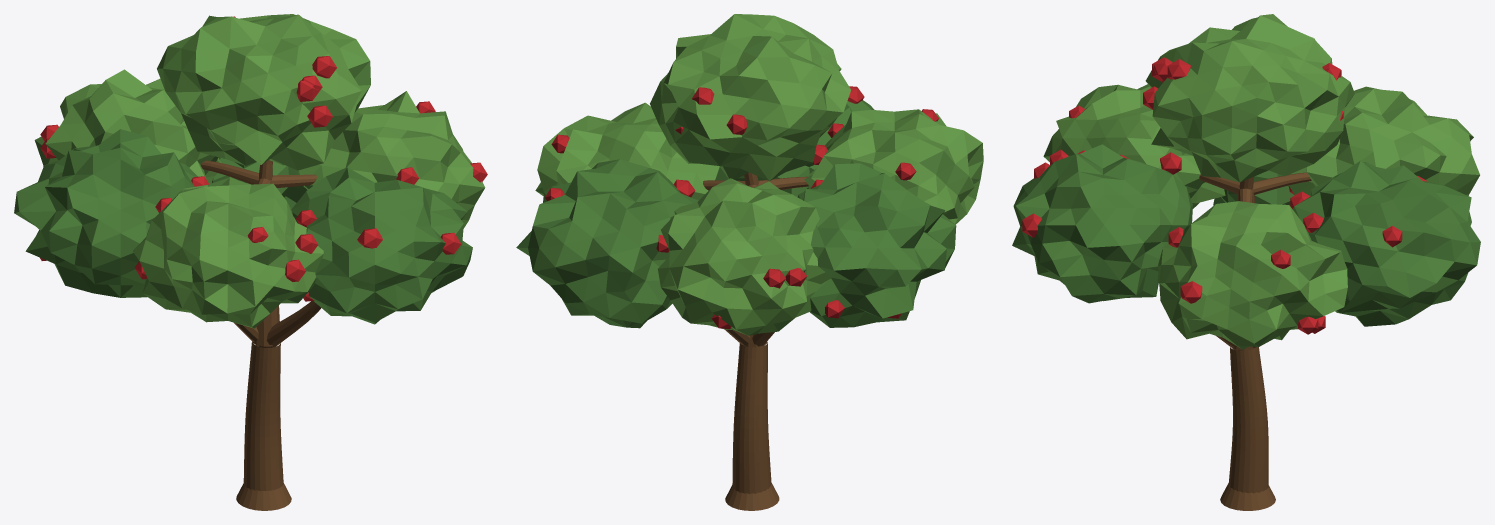
The model's file is fruit-tree-a.glb.
The picture shows the model from 3 angles, left to right: view 1: azimuth 30°, elevation 25°; view 2: azimuth 150°, elevation 25°; view 3: azimuth 270°, elevation 25°; orthographic projection. The views are drawn at different scales.
Visible parts, largest first — view 1: Body_Leaves, Body_Leaves2, Body_Bark, Body_Berries; view 2: Body_Leaves, Body_Leaves2, Body_Bark, Body_Berries; view 3: Body_Leaves, Body_Leaves2, Body_Bark, Body_Berries.
Part boxes in pixels (x1=…): Body_Leaves: x1=34, y1=14, x2=485, y2=328; Body_Leaves2: x1=14, y1=129, x2=472, y2=324; Body_Bark: x1=200, y1=160, x2=320, y2=510; Body_Berries: x1=40, y1=16, x2=487, y2=301; Body_Leaves: x1=535, y1=14, x2=983, y2=335; Body_Leaves2: x1=516, y1=100, x2=956, y2=328; Body_Bark: x1=703, y1=172, x2=808, y2=510; Body_Berries: x1=545, y1=86, x2=938, y2=329; Body_Leaves: x1=1043, y1=14, x2=1479, y2=349; Body_Leaves2: x1=1012, y1=144, x2=1480, y2=326; Body_Bark: x1=1159, y1=172, x2=1311, y2=510; Body_Berries: x1=1022, y1=57, x2=1426, y2=334.
Size of the model in its own units: 4.5 by 5 by 4.5.
